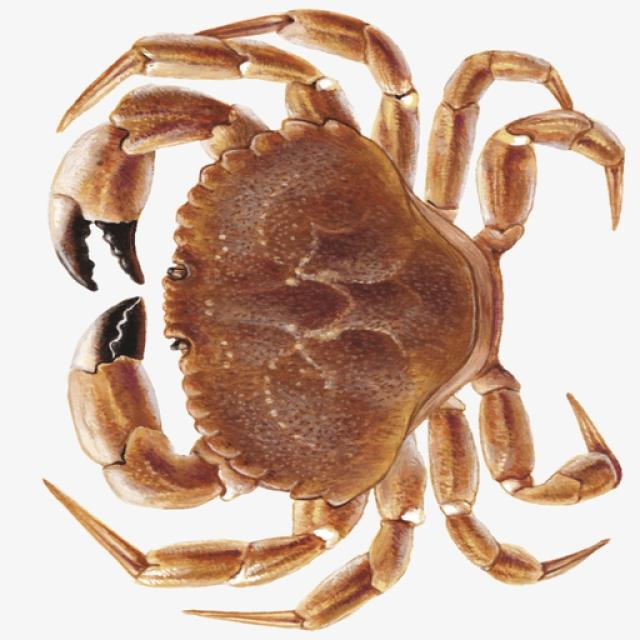Native Jonah crab: (45, 10, 624, 628)
